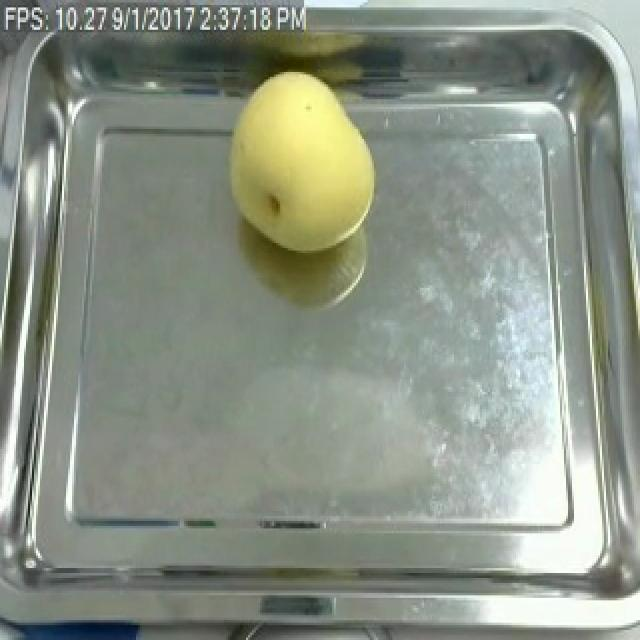Fruit: (216, 62, 384, 258)
